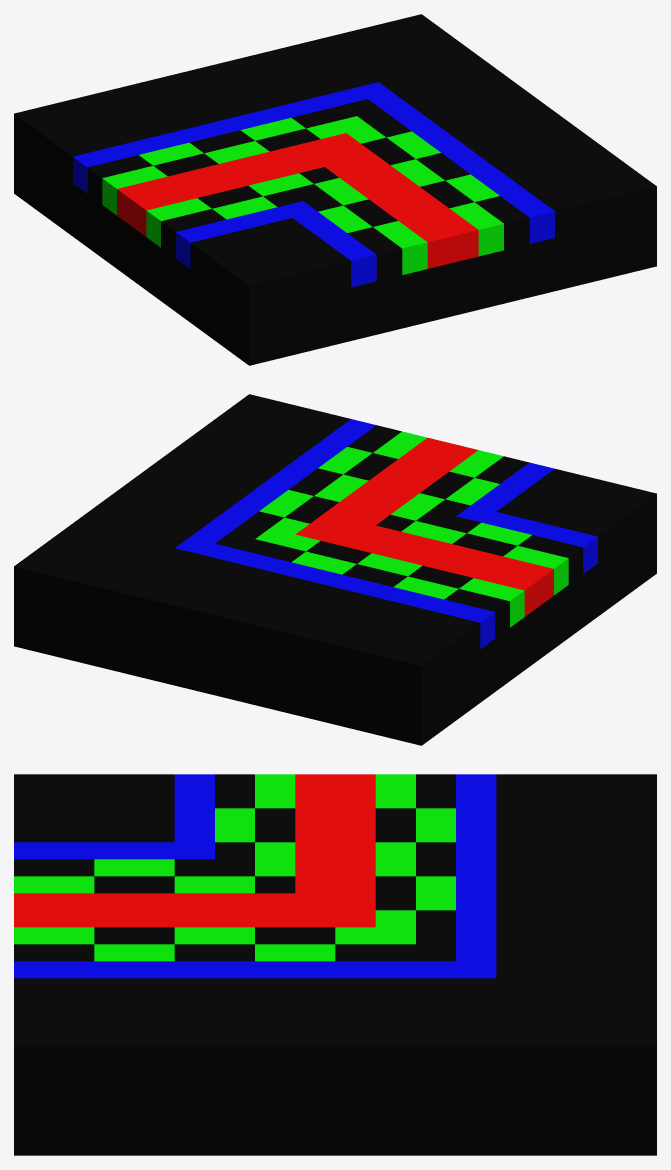
The model's file is corner.obj.
The picture shows the model from 3 angles, top to bottom: view 1: azimuth 30°, elevation 25°; view 2: azimuth 150°, elevation 25°; view 3: azimuth 270°, elevation 25°; orthographic projection. The views are drawn at different scales.
Visible parts, largest first — view 1: corner1; view 2: corner1; view 3: corner1.
Part boxes in pixels (bbox=[...]): corner1: bbox=[14, 14, 656, 365]; corner1: bbox=[14, 394, 656, 745]; corner1: bbox=[14, 774, 656, 1155].
Size of the model in its own units: 16 by 3 by 16.
Materials: 1 (1 with a texture image).
